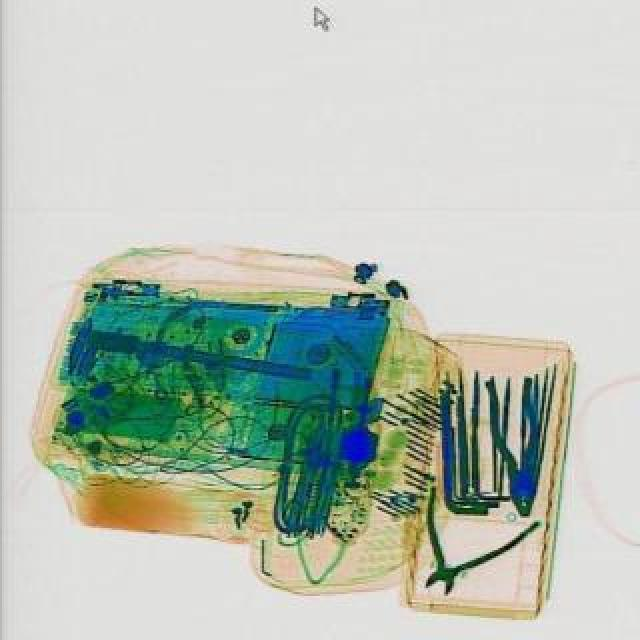wrench: (390, 480, 538, 616), (480, 372, 548, 516)
